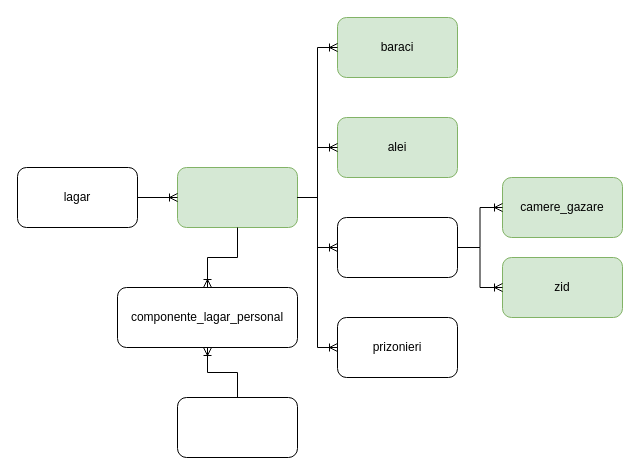
This 640x475 diagram has some shape labels left out. The centre of each missing label's shape, as x and y in pixels:
"componente_lagar" belongs at pixel 237 197.
"personal" belongs at pixel 237 427.
"zone_executie" belongs at pixel 397 247.
